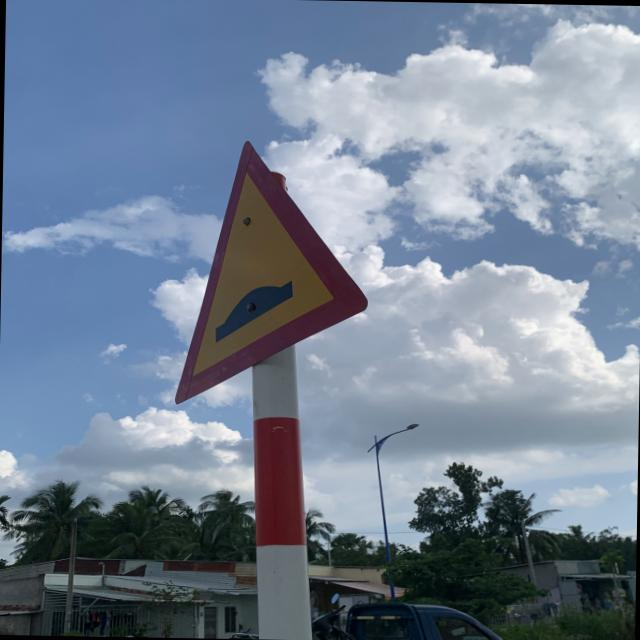Duong_Cong_Ben_Phai: (174, 139, 370, 409)
